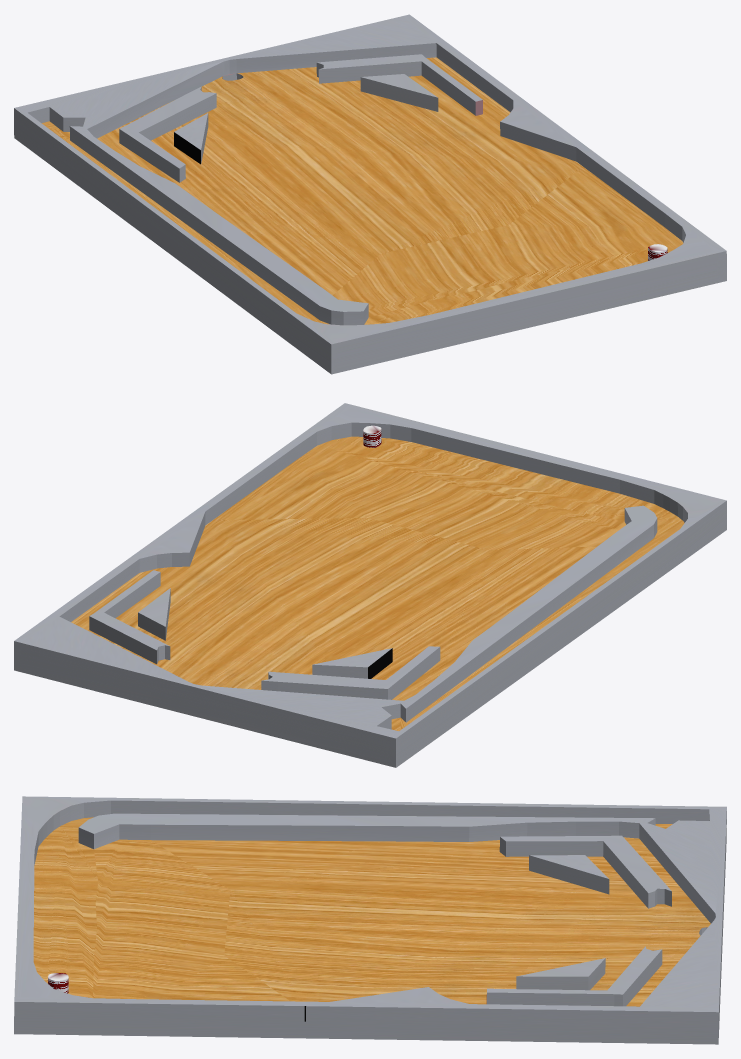
File: PA10PinballMachineNoBumper.obj
3 renders of one model, top to bottom at view 1: azimuth 30°, elevation 25°; view 2: azimuth 150°, elevation 25°; view 3: azimuth 270°, elevation 25°, orthographic. The views are drawn at different scales.
Parts seen in each view (by area): view 1: Cube; view 2: Cube; view 3: Cube.
Part boxes in pixels (<box>): Cube: <box>14,14,726,374</box>; Cube: <box>14,403,726,767</box>; Cube: <box>14,796,726,1044</box>.
Bounding box in the file's own units: 51.33 × 4.53 × 73.25.
5 materials, 5 textured.
